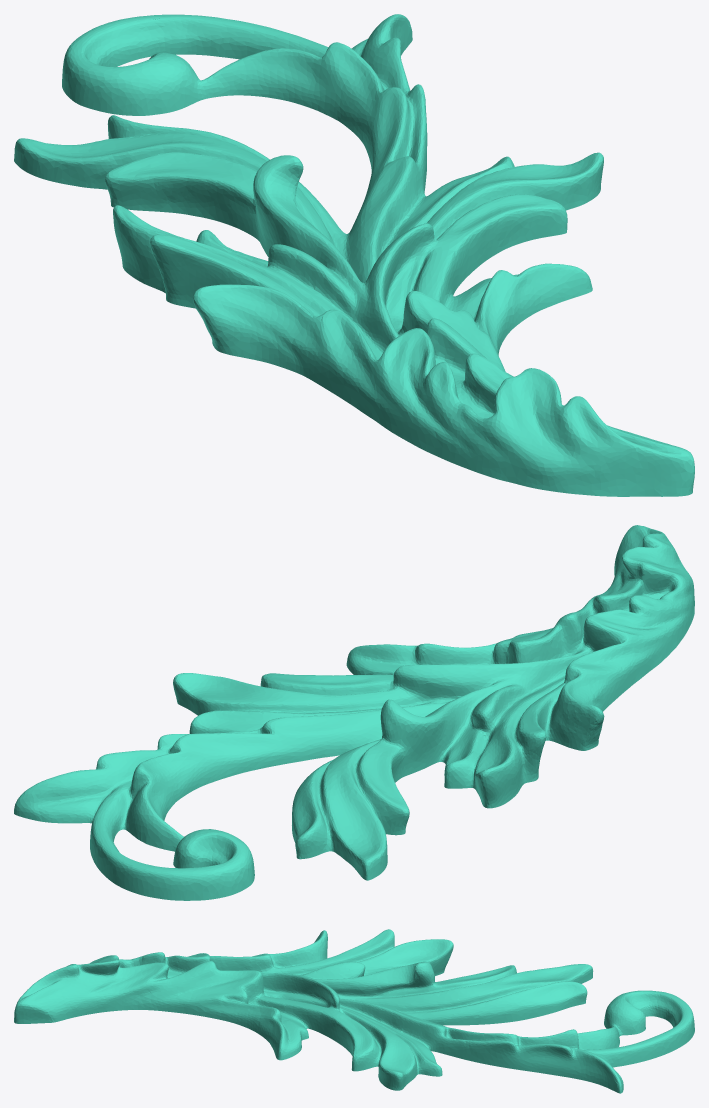
The model's file is CORNER_OBJ.obj.
3 renders of one model, top to bottom at view 1: azimuth 30°, elevation 25°; view 2: azimuth 150°, elevation 25°; view 3: azimuth 270°, elevation 25°, orthographic. The views are drawn at different scales.
Parts seen in each view (by area): view 1: CORNER; view 2: CORNER; view 3: CORNER.
Part boxes in pixels (x1,y1,x2,y2): CORNER: (14,14,694,496); CORNER: (14,525,694,900); CORNER: (14,929,694,1093).
Size of the model in its own units: 14.64 by 2.47 by 31.76.
